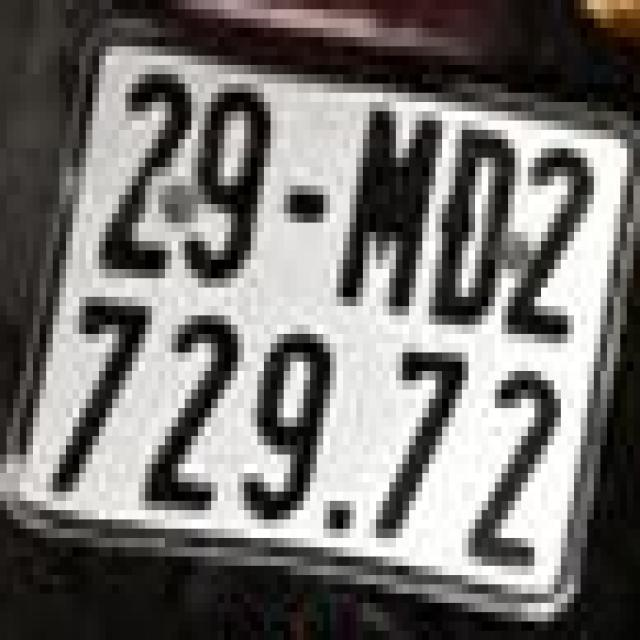2: (145, 306, 238, 510), (468, 362, 561, 566), (99, 64, 185, 278), (508, 139, 594, 343)
7: (46, 287, 145, 501), (369, 343, 468, 547)
9: (184, 84, 270, 288), (244, 324, 330, 520)
D: (436, 120, 508, 334)
M: (333, 97, 432, 320)
